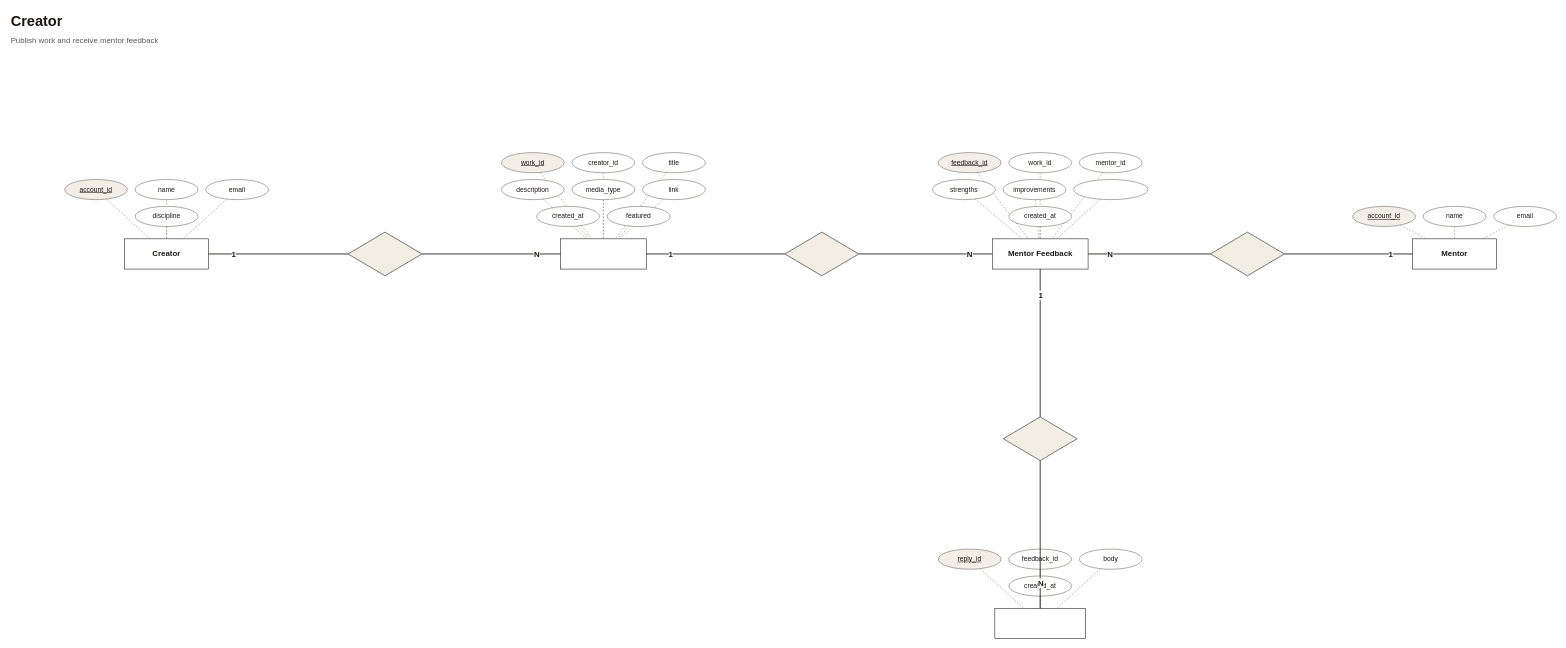
The diagram is 1566 pixels wide and 648 high, and some of its shapes have lost their labels. Here are the shapes that lost their labels. From the top down, the centre of each, then its label:
At (1110,189): "recommendations".
At (384,254): "publishes".
At (603,253): "Creative Work".
At (821,254): "receives".
At (1247,254): "writes".
At (1040,438): "answered by".
At (1040,623): "Feedback Reply".
